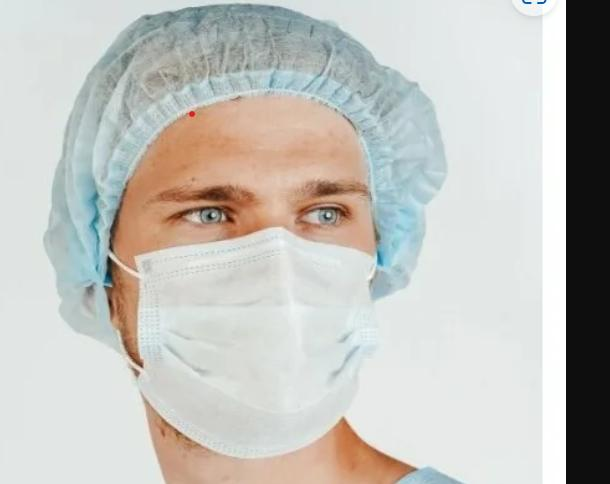hairnet: (36, 12, 471, 340)
mask: (122, 230, 386, 452)
